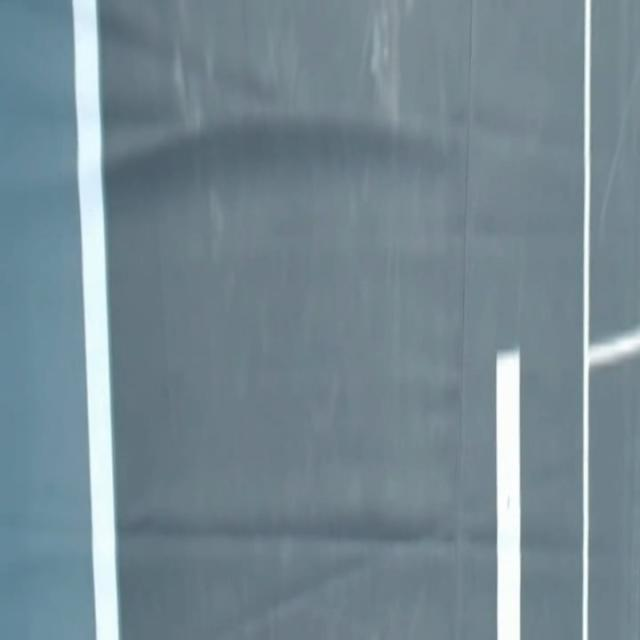center: (497, 350, 520, 639)
left: (72, 0, 119, 639)
